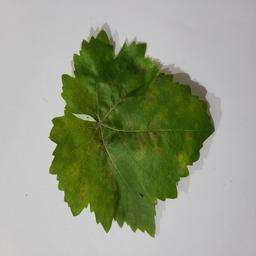Powdery-Mildew: (128, 119, 164, 155), (72, 167, 90, 198), (98, 153, 115, 179), (176, 152, 193, 169), (87, 135, 104, 151), (143, 92, 159, 108)
